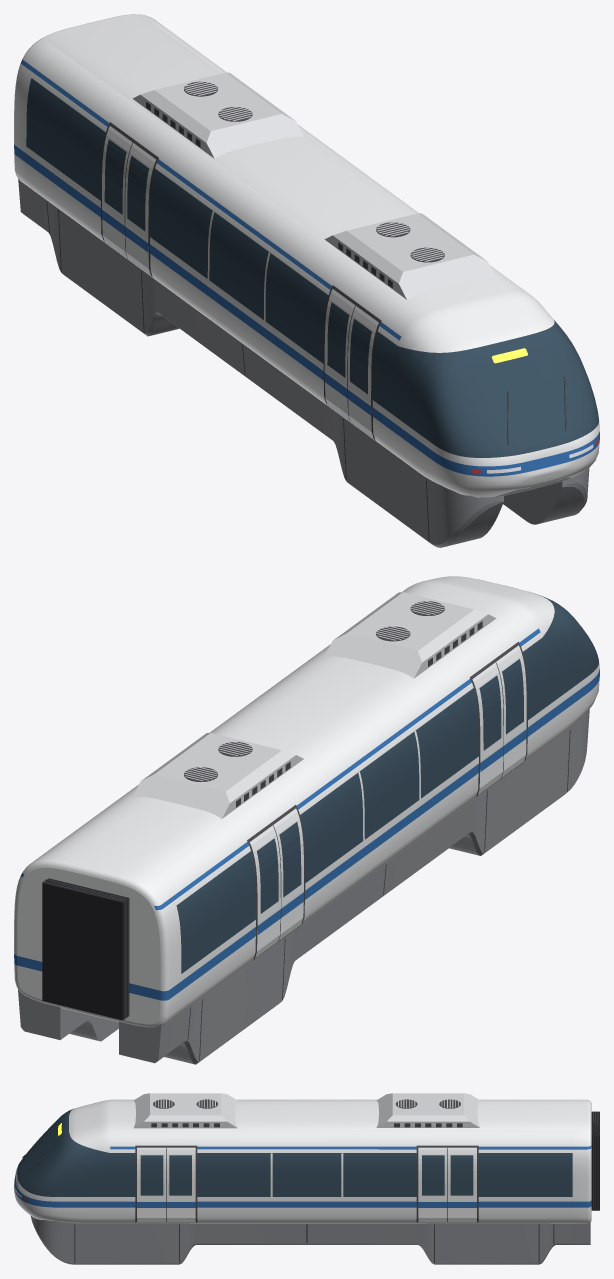
Rendered from 308_close.fbx.
3 renders of one model, top to bottom at view 1: azimuth 30°, elevation 25°; view 2: azimuth 150°, elevation 25°; view 3: azimuth 270°, elevation 25°, orthographic. The views are drawn at different scales.
Visible parts, largest first — view 1: 308_close; view 2: 308_close; view 3: 308_close.
Part boxes in pixels (<box>): 308_close: <box>14,14,599,547</box>; 308_close: <box>14,576,599,1064</box>; 308_close: <box>14,1093,599,1264</box>.
Size of the model in its own units: 2.73 by 3.71 by 14.
